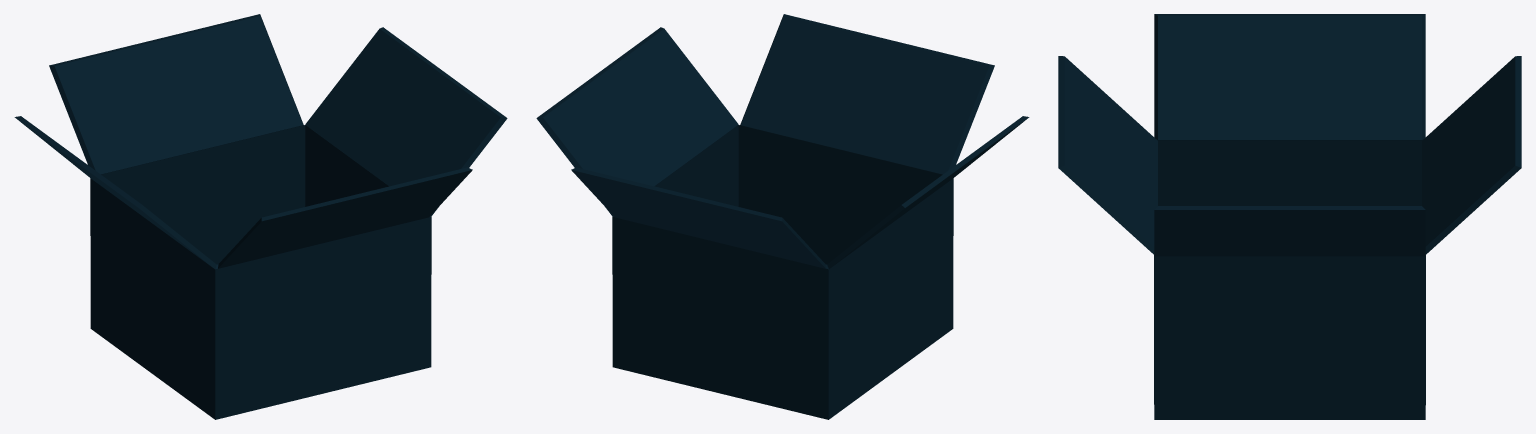
File: empty_box.fbx
3 views of the same model, side by side, from view 1: azimuth 30°, elevation 25°; view 2: azimuth 150°, elevation 25°; view 3: azimuth 270°, elevation 25° (orthographic). The views are drawn at different scales.
Visible parts, largest first — view 1: empty_box; view 2: empty_box; view 3: empty_box.
Boxes of the visible parts, x1,y1,x2,y2 form: empty_box: [14, 14, 507, 419]; empty_box: [536, 14, 1029, 419]; empty_box: [1058, 14, 1521, 419].
Bounding box in the file's own units: 0.9723 × 0.5825 × 0.9723.
